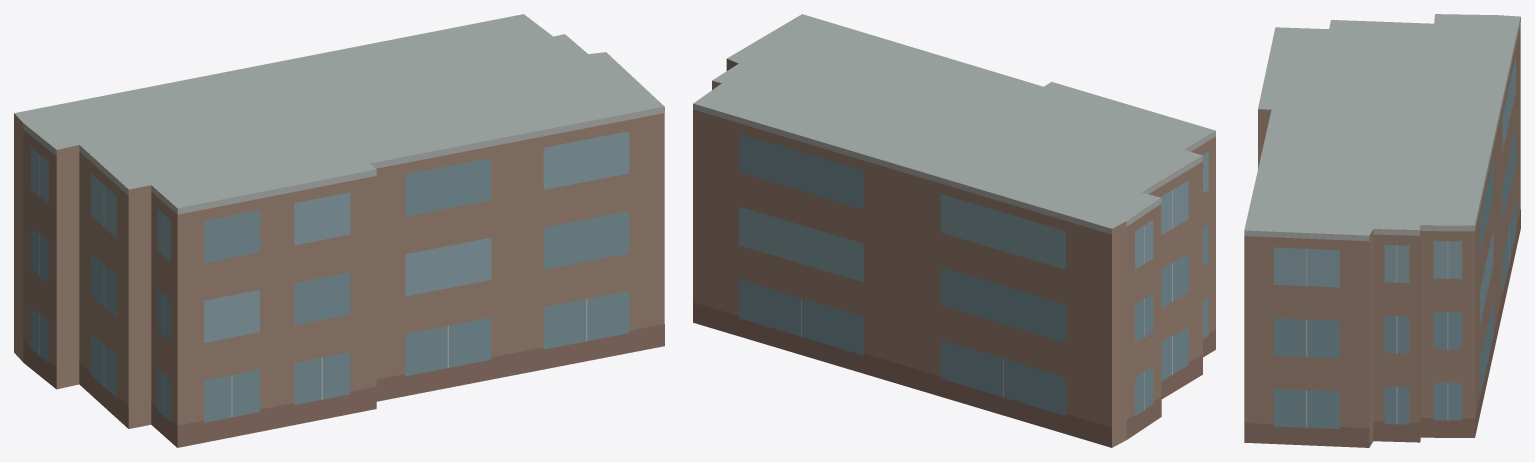
The model's file is survey-upis-32693549.glb.
The picture shows the model from 3 angles, left to right: view 1: azimuth 30°, elevation 25°; view 2: azimuth 150°, elevation 25°; view 3: azimuth 270°, elevation 25°; orthographic projection. The views are drawn at different scales.
Parts seen in each view (by area): view 1: survey-upis-32693549.tmp; view 2: survey-upis-32693549.tmp; view 3: survey-upis-32693549.tmp.
Part boxes in pixels (x1,y1,x2,y2): survey-upis-32693549.tmp: [14, 14, 664, 447]; survey-upis-32693549.tmp: [693, 14, 1215, 447]; survey-upis-32693549.tmp: [1244, 14, 1520, 447].
Bounding box in the file's own units: 20.5 × 9.15 × 10.81.
